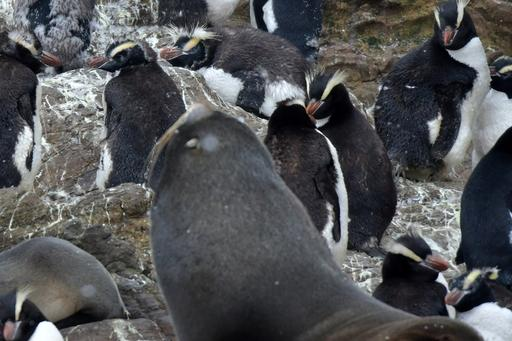Southern Rockhopper Penguin: (356, 0, 504, 188), (280, 56, 410, 251), (249, 88, 358, 268), (84, 32, 194, 203), (156, 23, 329, 118), (0, 18, 68, 203), (374, 225, 461, 329), (0, 0, 111, 69), (440, 261, 512, 341), (246, 0, 335, 49), (143, 0, 282, 28)
